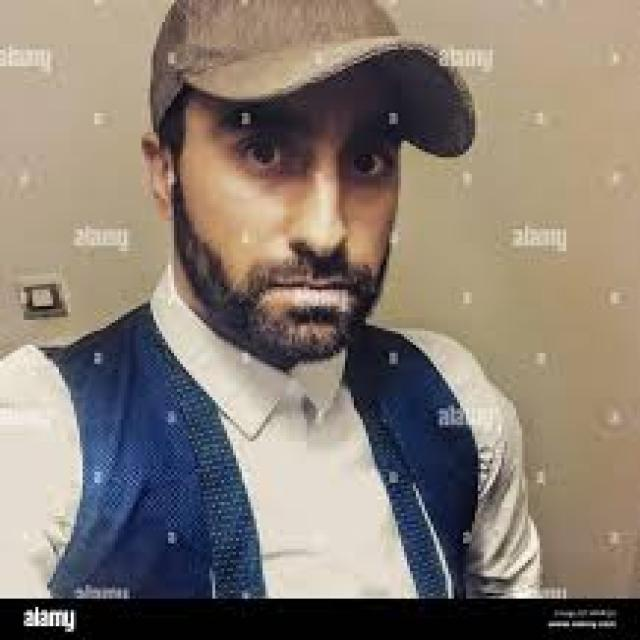3_gorra: (138, 0, 478, 161)
